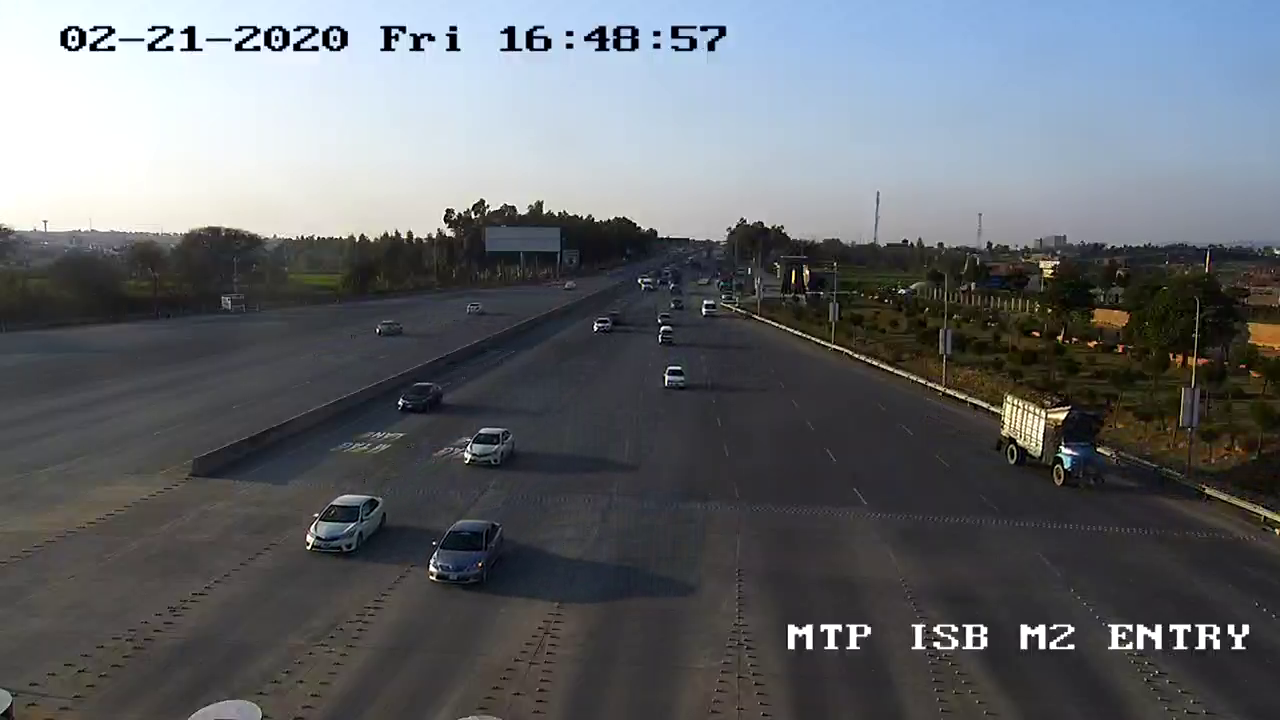f1: (412, 506, 517, 598), (291, 486, 391, 560), (457, 420, 520, 477), (389, 374, 452, 417)
f5: (988, 380, 1125, 495)
